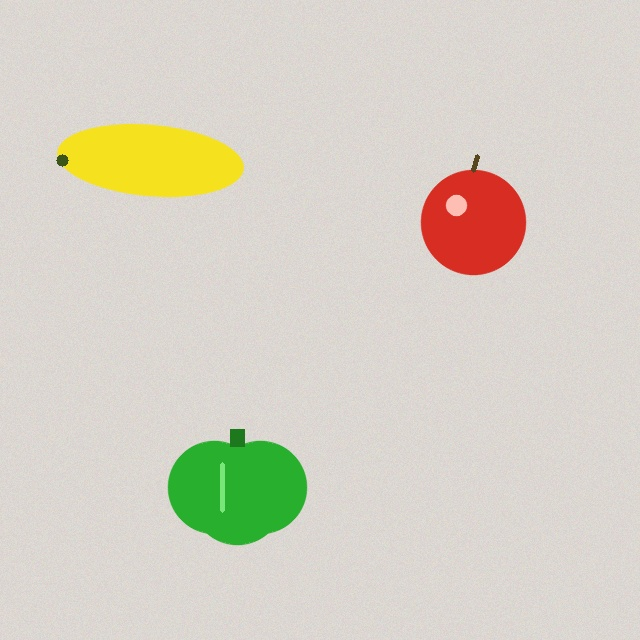Fresh apple: (421, 156, 525, 274)
Fresh banana: (53, 117, 247, 203)
Fresh bell pepper: (168, 429, 306, 544)
